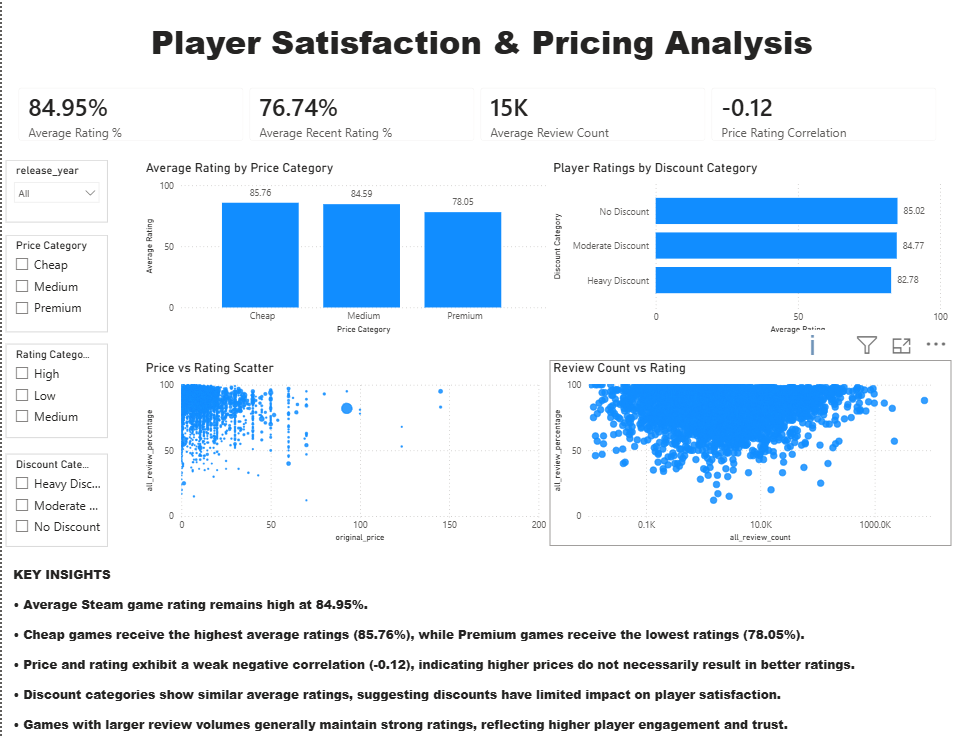

The dashboard page shown, as its layout file describes it:
{"tool":"powerbi","page":{"name":"Player Satisfaction & Pricing Analysis","canvas":[1280,1000],"ordinal":1},"visuals":[{"type":"textbox","box":[10.1,20.2,1259.5,73.6],"z":0},{"type":"cardVisual","fields":{"Data":["All_measures.Average Rating %","All_measures.Average Recent Rating %","All_measures.Average Review Count","All_measures.Price Rating Correlation"]},"box":[4.8,100.5,1260.2,105.3],"z":1},{"type":"clusteredColumnChart","fields":{"Category":["game_cleaned.Price Category"],"Y":["All_measures.Average Rating"]},"box":[186.4,213.5,543.9,236.6],"z":2},{"type":"scatterChart","title":"Price vs Rating Scatter","fields":{"X":["game_cleaned.original_price"],"Y":["game_cleaned.all_review_percentage"],"Size":["Sum(game_cleaned.all_review_count)"]},"box":[186.4,480.4,543.9,248.2],"z":3},{"type":"slicer","fields":{"Values":["game_cleaned.release_year"]},"box":[5.4,213.7,135.9,83.2],"z":4},{"type":"slicer","fields":{"Values":["game_cleaned.Price Category"]},"box":[4.7,314,135.6,129.8],"z":5},{"type":"slicer","fields":{"Values":["game_cleaned.Rating Category"]},"box":[5.1,458.6,135.9,125.7],"z":6},{"type":"slicer","fields":{"Values":["game_cleaned.Discount Category"]},"box":[5.1,604.6,135.9,124],"z":7},{"type":"clusteredBarChart","title":"Player Ratings by Discount Category","fields":{"Category":["game_cleaned.Discount Category"],"Y":["All_measures.Average Rating"]},"box":[729.9,213.8,536,237],"z":8},{"type":"scatterChart","title":"Review Count vs Rating","fields":{"X":["game_cleaned.all_review_count"],"Y":["game_cleaned.all_review_percentage"]},"box":[729.9,480.8,536,248],"z":9},{"type":"textbox","box":[10.2,750.7,1260.2,236.1],"z":10}]}

Visuals, with their boxes in screenshot pixels (x1, y1, x2, y2), scaled from the page's 1280x1000 canvas onto the 960x736 screenshot:
textbox: x1=8, y1=15, x2=952, y2=69
cardVisual - All_measures.Average Rating % x All_measures.Average Recent Rating %: x1=4, y1=74, x2=949, y2=151
clusteredColumnChart - game_cleaned.Price Category x All_measures.Average Rating: x1=140, y1=157, x2=548, y2=331
"Price vs Rating Scatter" scatterChart: x1=140, y1=354, x2=548, y2=536
slicer - game_cleaned.release_year: x1=4, y1=157, x2=106, y2=219
slicer - game_cleaned.Price Category: x1=4, y1=231, x2=105, y2=327
slicer - game_cleaned.Rating Category: x1=4, y1=338, x2=106, y2=430
slicer - game_cleaned.Discount Category: x1=4, y1=445, x2=106, y2=536
"Player Ratings by Discount Category" clusteredBarChart: x1=547, y1=157, x2=949, y2=332
"Review Count vs Rating" scatterChart: x1=547, y1=354, x2=949, y2=536
textbox: x1=8, y1=553, x2=953, y2=726
